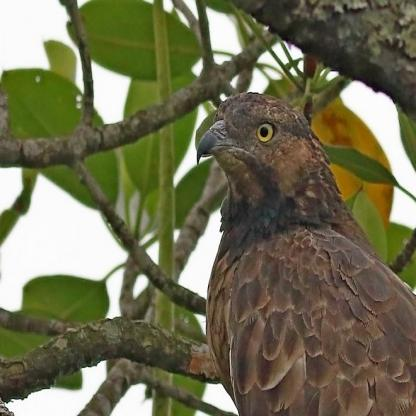Burung: (191, 90, 415, 415)
